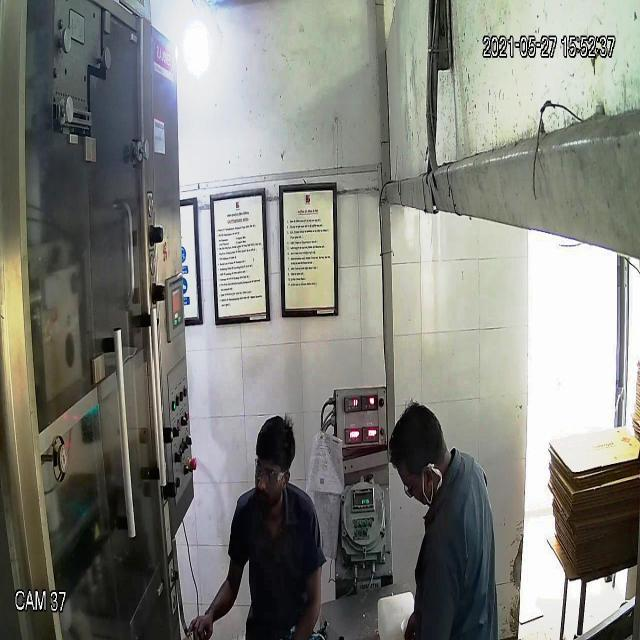glasses: (251, 456, 294, 492)
